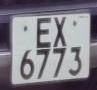3: (68, 43, 87, 80)
6: (18, 48, 37, 83)
7: (50, 45, 69, 82), (34, 48, 53, 82)
E: (34, 14, 53, 52)
X: (52, 13, 70, 51)
